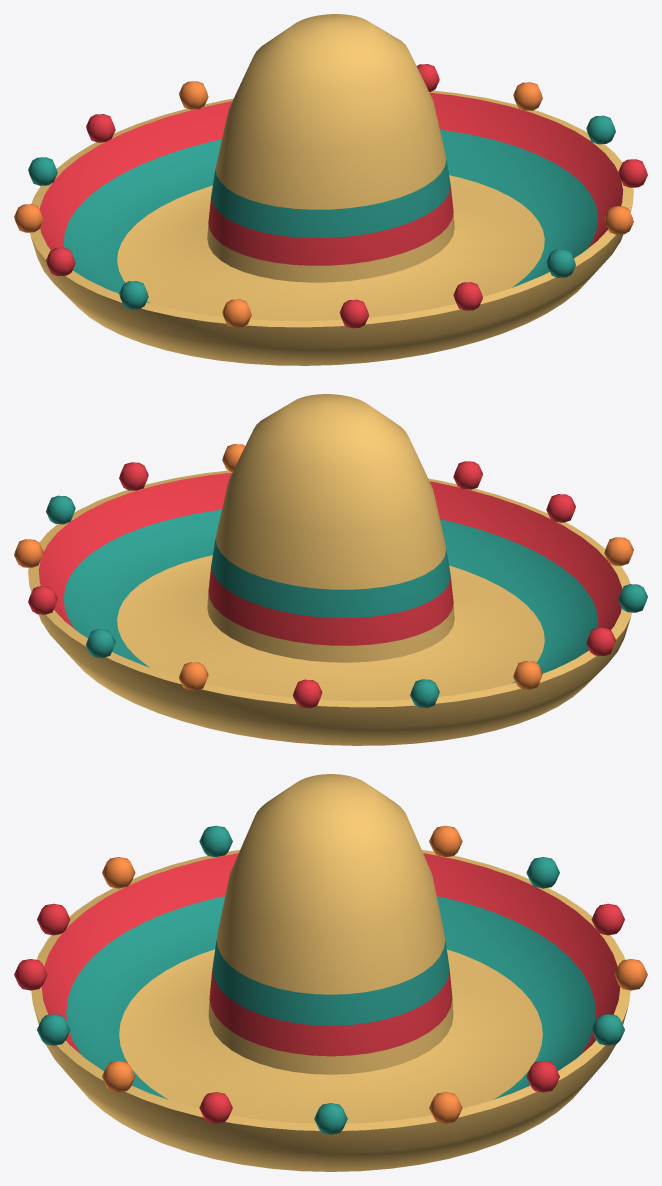
The model's file is sombrero.glb.
3 renders of one model, top to bottom at view 1: azimuth 30°, elevation 25°; view 2: azimuth 150°, elevation 25°; view 3: azimuth 270°, elevation 25°, orthographic. The views are drawn at different scales.
Parts seen in each view (by area): view 1: sombrero; view 2: sombrero; view 3: sombrero.
Boxes of the visible parts, box(x1,y1,x2,y2) form: sombrero: box(14, 14, 647, 365); sombrero: box(14, 394, 647, 745); sombrero: box(14, 774, 647, 1171).
Bounding box in the file's own units: 0.892 × 0.37 × 0.79.
